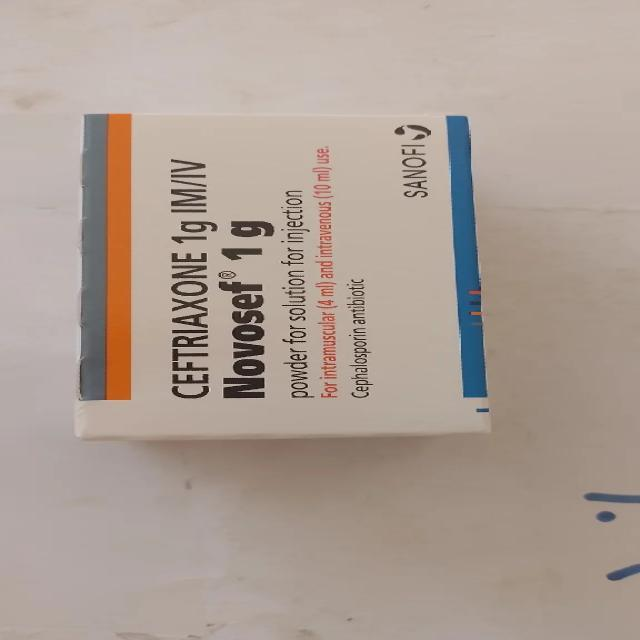drug-name: (218, 216, 274, 402)
